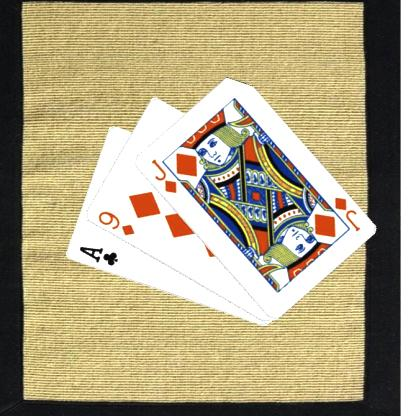9D: (94, 208, 136, 237)
AC: (76, 244, 118, 268)
JD: (148, 156, 178, 195), (331, 194, 361, 233)
